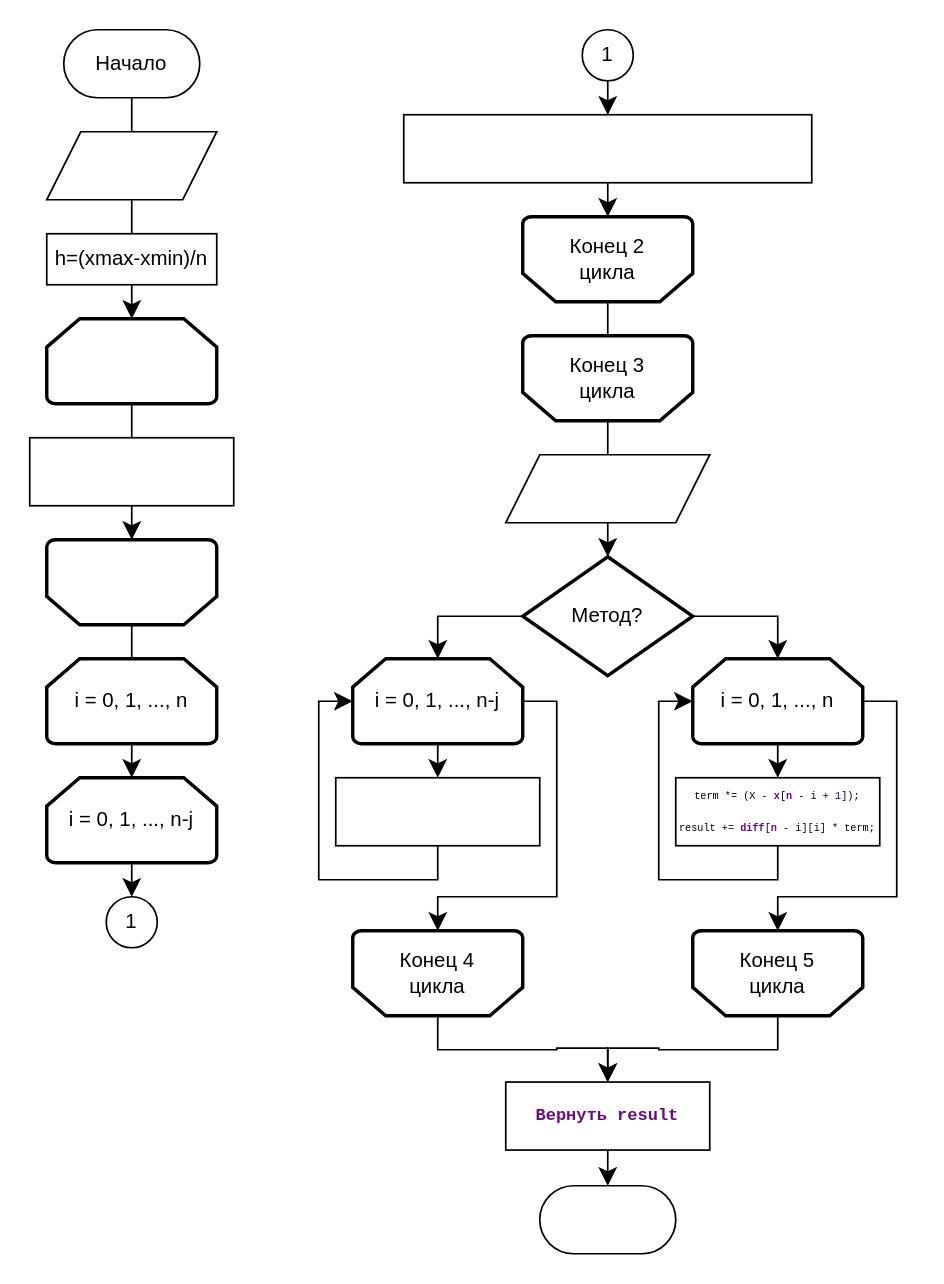
Image size: 944x1284. Some labels were removed from this diagram. Each missing label, with the centre of its shape:
"diff [i][j] = ( diff [i + 1 ][j - 1 ] - diff [i][j - 1 ]) / ( x [i + j] - x [i])" belongs at (x=607, y=148).
"i = 0, 1, n" belongs at (x=131, y=360).
"term *= (X - x [i - 1 ]) result += diff [ 0 ][i] * term" belongs at (x=437, y=811).
"x [i] = xmin + i * h diff [i][ 0 ] = f( x [i])" belongs at (x=131, y=471).
"Ввод n, b" belongs at (x=131, y=165).
"Вывод таблицы разностей" belongs at (x=607, y=488).
"Конец" belongs at (x=607, y=1219).
"Конец 1 цикла" belongs at (x=131, y=581).
